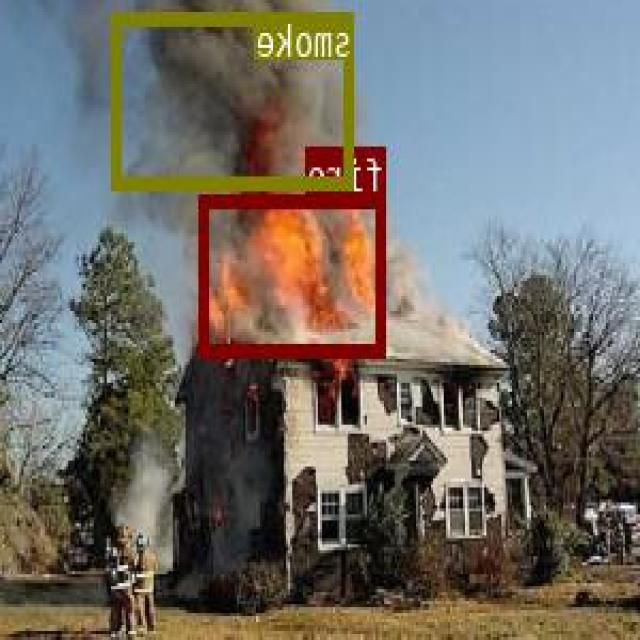fire: (202, 192, 388, 355)
smoke: (114, 9, 356, 185)
